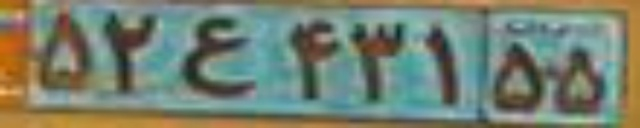1: (423, 23, 462, 107)
2: (102, 10, 156, 93)
3: (344, 20, 407, 103)
4: (287, 20, 339, 100)
5: (34, 10, 93, 91), (492, 41, 547, 110), (552, 46, 608, 113)
ain: (174, 17, 262, 97)
